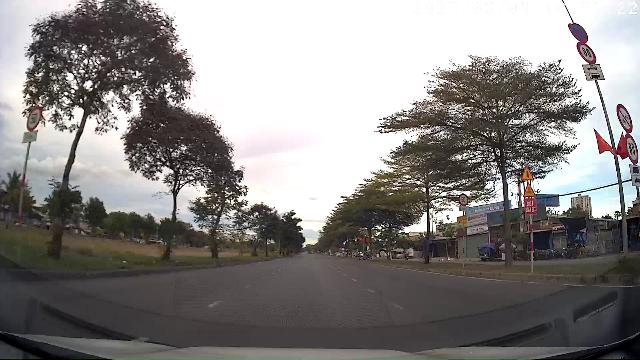127-toc-do-toi-da-50: (25, 106, 42, 131)
127-toc-do-toi-da-60: (625, 134, 639, 164)
127-toc-do-toi-da-80: (577, 42, 597, 64)
130-cam-dung-va-do-xe: (568, 22, 589, 42)
